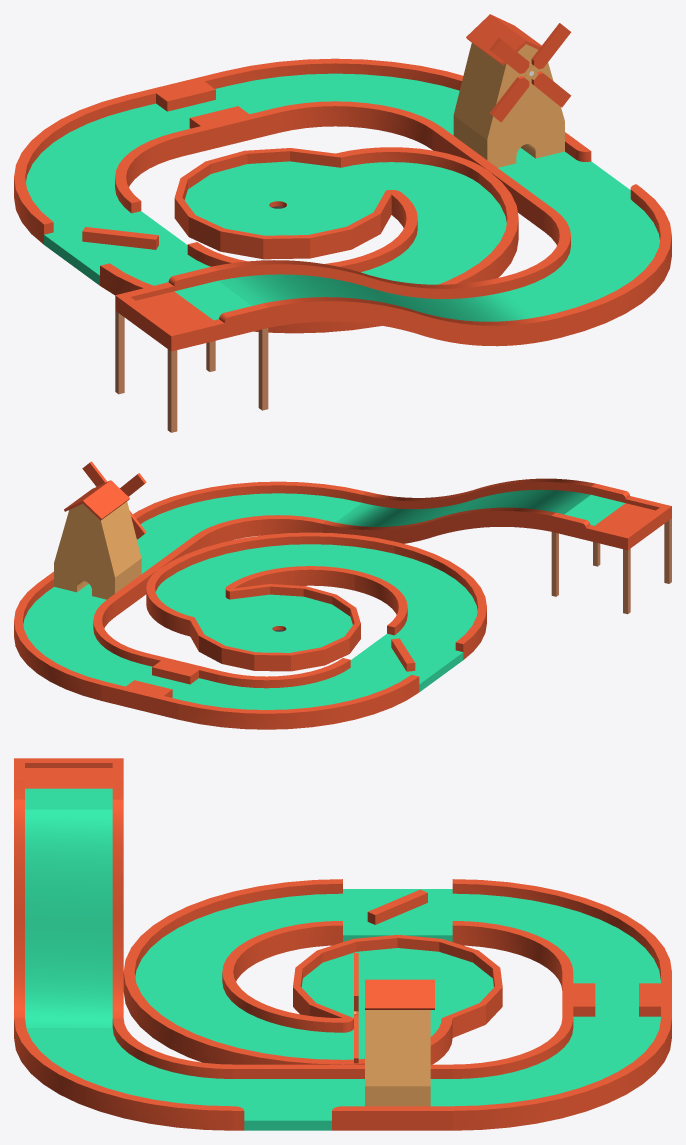
The model's file is PH_Spiral.obj.
The picture shows the model from 3 angles, top to bottom: view 1: azimuth 30°, elevation 25°; view 2: azimuth 150°, elevation 25°; view 3: azimuth 270°, elevation 25°; orthographic projection. The views are drawn at different scales.
Bounding box in the file's own units: 6 × 1.41 × 6.
